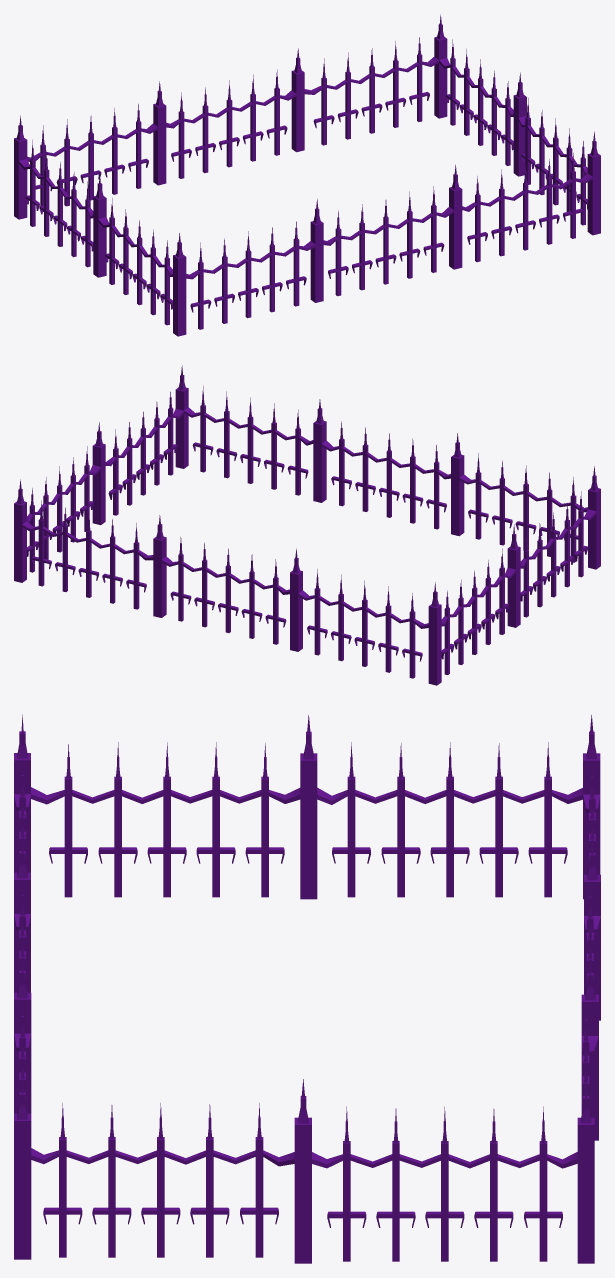
Rendered from Greed_Fence.fbx.
3 views of the same model, one above another, from view 1: azimuth 30°, elevation 25°; view 2: azimuth 150°, elevation 25°; view 3: azimuth 270°, elevation 25° (orthographic). The views are drawn at different scales.
Parts seen in each view (by area): view 1: Final_Fence; view 2: Final_Fence; view 3: Final_Fence.
Boxes of the visible parts, x1,y1,x2,y2 form: Final_Fence: [14, 14, 600, 336]; Final_Fence: [14, 365, 600, 685]; Final_Fence: [14, 714, 600, 1263].
Size of the model in its own units: 11.22 by 2.57 by 7.48.
